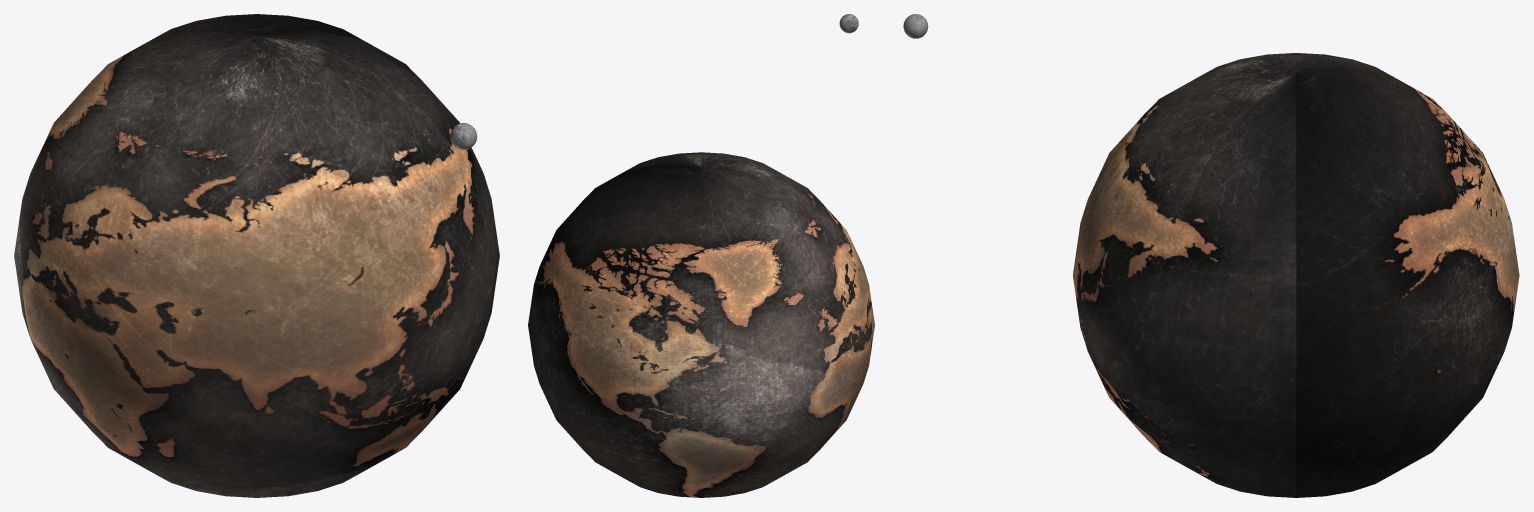
File: earth.dae
The picture shows the model from 3 angles, left to right: view 1: azimuth 30°, elevation 25°; view 2: azimuth 150°, elevation 25°; view 3: azimuth 270°, elevation 25°; orthographic projection. The views are drawn at different scales.
Parts seen in each view (by area): view 1: Sphere, Sphere.1; view 2: Sphere; view 3: Sphere.
Part boxes in pixels (x1,y1,x2,y2): Sphere: (14,14,499,497); Sphere.1: (450,123,477,149); Sphere: (528,152,874,497); Sphere: (1073,53,1519,497).
Bounding box in the file's own units: 949 × 1085 × 1309.
Materials: 2 (2 with a texture image).
